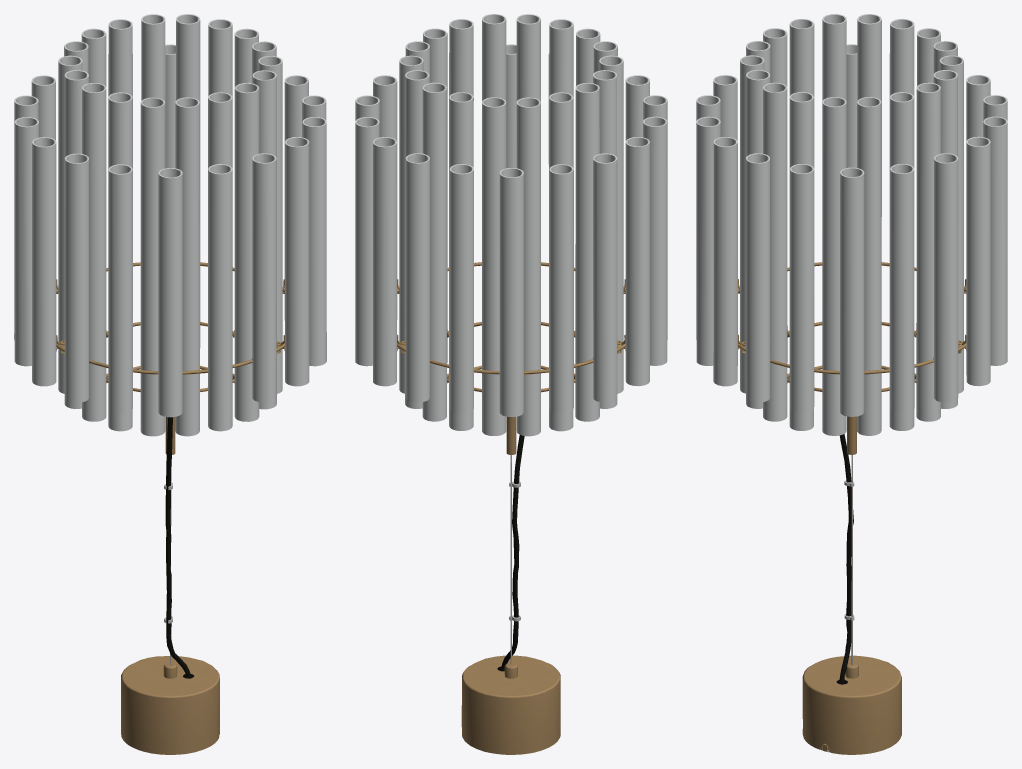
3 renders of one model, left to right at view 1: azimuth 30°, elevation 25°; view 2: azimuth 150°, elevation 25°; view 3: azimuth 270°, elevation 25°, orthographic.
Visible parts, largest first — view 1: ASY_ART_50586305_S01_NV01; view 2: ASY_ART_50586305_S01_NV01; view 3: ASY_ART_50586305_S01_NV01.
Boxes of the visible parts, x1,y1,x2,y2 form: ASY_ART_50586305_S01_NV01: (14,14,326,754); ASY_ART_50586305_S01_NV01: (355,14,667,754); ASY_ART_50586305_S01_NV01: (696,14,1007,754).
Size of the model in its own units: 0.3837 by 0.9045 by 0.3778.
2 materials, 1 textured.
